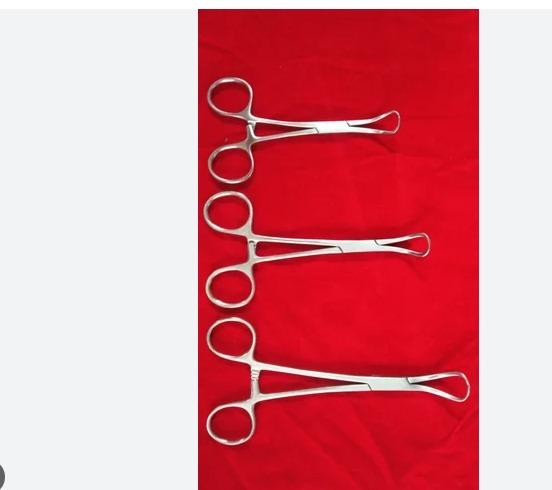Backhaus: (202, 317, 475, 447), (205, 195, 435, 312), (203, 70, 408, 189)
